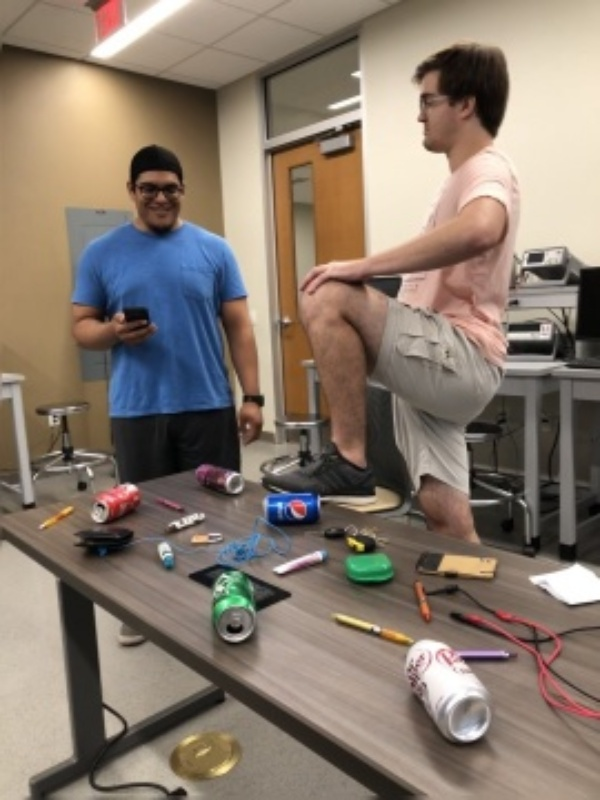can: (403, 636, 503, 746), (208, 566, 262, 644), (85, 481, 148, 524), (260, 490, 329, 529), (190, 463, 248, 497)
